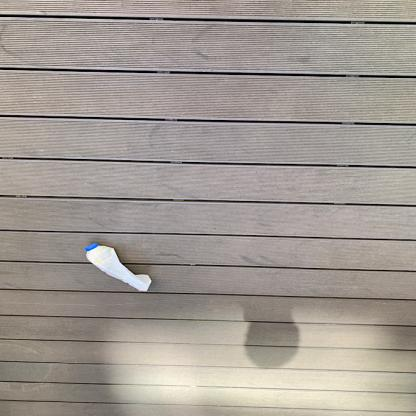trash: (84, 242, 152, 292)
